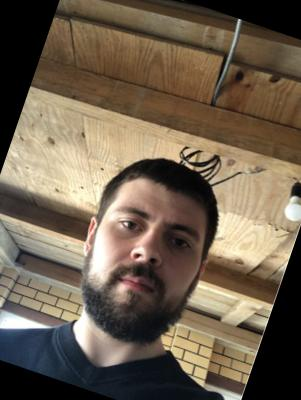without_mask: (71, 190, 214, 355)
